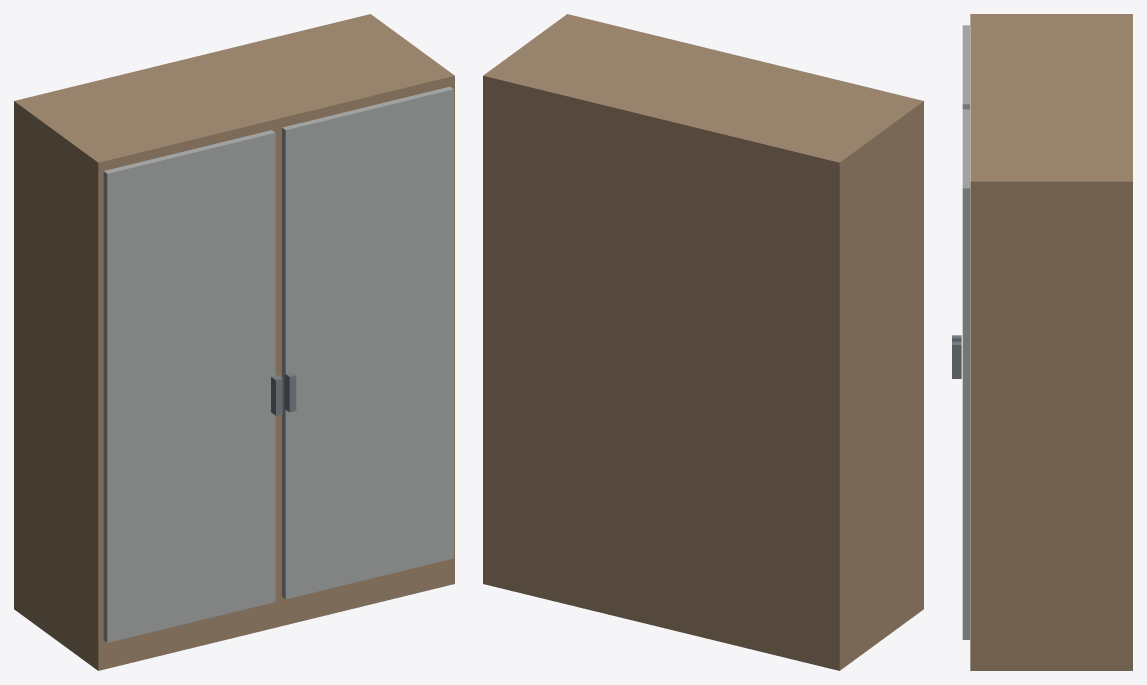
Rendered from CLS-005.glb.
3 views of the same model, side by side, from view 1: azimuth 30°, elevation 25°; view 2: azimuth 150°, elevation 25°; view 3: azimuth 270°, elevation 25° (orthographic). The views are drawn at different scales.
Parts seen in each view (by area): view 1: 000_Cabinet_body, 001_Cabinet_door_L, 002_Cabinet_door_R; view 2: 000_Cabinet_body; view 3: 000_Cabinet_body, 002_Cabinet_door_R, 001_Cabinet_door_L, 007_Door_pull.
Boxes of the visible parts, left/top/right/bottom form: 000_Cabinet_body: left=14, top=14, right=454, bottom=670; 001_Cabinet_door_L: left=103, top=130, right=275, bottom=642; 002_Cabinet_door_R: left=282, top=86, right=453, bottom=599; 000_Cabinet_body: left=483, top=14, right=923, bottom=670; 000_Cabinet_body: left=970, top=14, right=1132, bottom=670; 002_Cabinet_door_R: left=962, top=109, right=969, bottom=639; 001_Cabinet_door_L: left=962, top=25, right=969, bottom=109; 007_Door_pull: left=952, top=341, right=961, bottom=378.
Size of the model in its own units: 1.05 by 1.43 by 0.4785.
